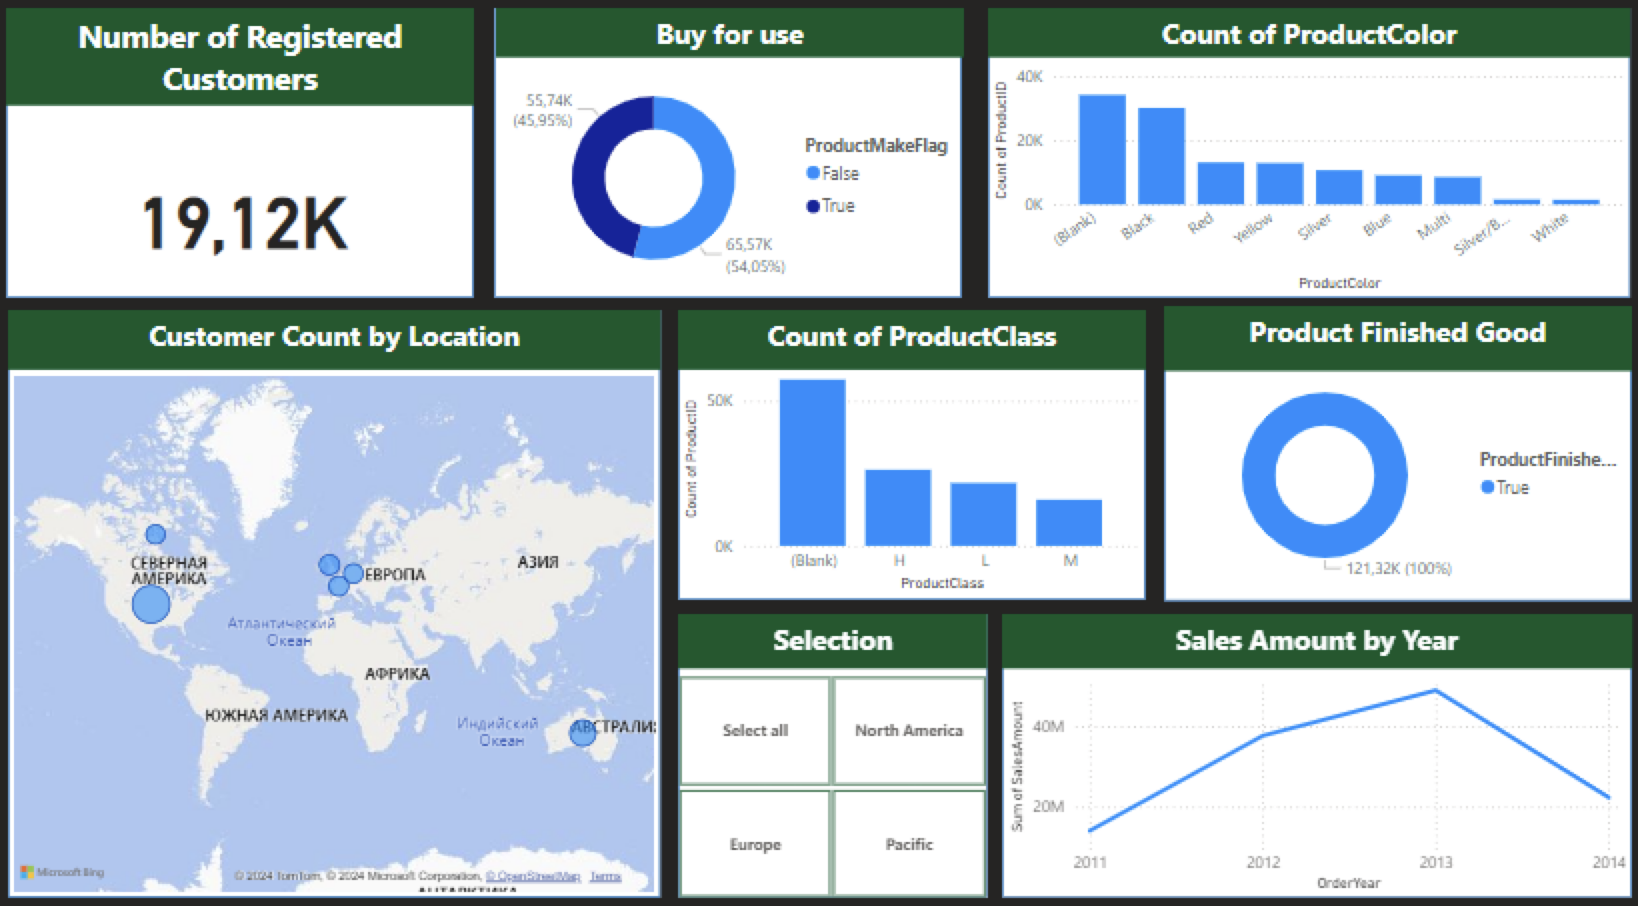

This screenshot's page, from the dashboard's own definition file:
{"tool":"powerbi","page":{"name":"Page 2","canvas":[1280,720],"ordinal":1},"visuals":[{"type":"shape","box":[13.5,15.4,359.6,223.1],"z":0},{"type":"shape","box":[388.5,15.4,359.6,223.1],"z":1000},{"type":"shape","box":[769.2,15.4,494.2,223.1],"z":2000},{"type":"textbox","box":[769.2,15.4,494.2,38.5],"z":3000},{"type":"columnChart","fields":{"Category":["Query1.ProductColor"],"Y":["CountNonNull(Query1.ProductID)"]},"box":[769.2,53.8,494.2,184.6],"z":4000},{"type":"card","fields":{"Values":["Count(Query1.CustomerID)"]},"box":[0,67.3,390.4,213.5],"z":5000},{"type":"textbox","box":[13.5,15.4,359.6,75],"z":6000},{"type":"textbox","box":[390.4,15.4,359.6,38.5],"z":7000},{"type":"donutChart","fields":{"Category":["Query1.ProductMakeFlag"],"Y":["CountNonNull(Query1.ProductID)"]},"box":[390.4,53.8,359.6,184.6],"z":8000},{"type":"shape","box":[903.8,244.2,359.6,226.9],"z":9000},{"type":"shape","box":[15.4,248.1,501.9,451.9],"z":10000},{"type":"shape","box":[530.8,248.1,359.6,223.1],"z":11000},{"type":"donutChart","fields":{"Category":["Query1.ProductFinishedGoodsFlag"],"Y":["CountNonNull(Query1.ProductID)"]},"box":[903.8,280.8,359.6,186.5],"z":12000},{"type":"columnChart","fields":{"Category":["Query1.ProductClass"],"Y":["CountNonNull(Query1.ProductID)"]},"box":[530.8,280.8,359.6,186.5],"z":13000},{"type":"textbox","box":[903.8,244.2,359.6,50],"z":14000},{"type":"textbox","box":[530.8,248.1,359.6,46.2],"z":15000},{"type":"textbox","box":[15.4,248.1,501.9,46.2],"z":16000},{"type":"map","fields":{"Category":["Query3.Country"],"Size":["Sum(Query3.CustomerCount)"]},"box":[15.4,294.2,501.9,405.8],"z":17000},{"type":"shape","box":[530.8,481.5,238.5,218.5],"z":18000},{"type":"slicer","fields":{"Values":["Query1.TerritoryGroup"]},"box":[506.2,523.1,284.6,183.1],"z":19000},{"type":"textbox","box":[530.8,481.5,238.5,41.5],"z":20000},{"type":"shape","box":[780,481.5,484.6,218.5],"z":21000},{"type":"textbox","box":[780,481.5,484.6,41.5],"z":22000},{"type":"lineChart","fields":{"Category":["Query2.OrderYear"],"Y":["Sum(Query2.SalesAmount)"]},"box":[781.5,523.1,483.1,176.9],"z":23000}]}

Visuals, with their boxes in screenshot pixels (x1, y1, x2, y2), scaled from the page's 1280x720 canvas onto the 1638x906 screenshot:
shape: locate(17, 19, 477, 300)
shape: locate(497, 19, 957, 300)
shape: locate(984, 19, 1617, 300)
textbox: locate(984, 19, 1617, 68)
columnChart - Query1.ProductColor x CountNonNull(Query1.ProductID): locate(984, 68, 1617, 300)
card - Count(Query1.CustomerID): locate(0, 85, 500, 353)
textbox: locate(17, 19, 477, 114)
textbox: locate(500, 19, 960, 68)
donutChart - Query1.ProductMakeFlag x CountNonNull(Query1.ProductID): locate(500, 68, 960, 300)
shape: locate(1157, 307, 1617, 593)
shape: locate(20, 312, 662, 881)
shape: locate(679, 312, 1139, 593)
donutChart - Query1.ProductFinishedGoodsFlag x CountNonNull(Query1.ProductID): locate(1157, 353, 1617, 588)
columnChart - Query1.ProductClass x CountNonNull(Query1.ProductID): locate(679, 353, 1139, 588)
textbox: locate(1157, 307, 1617, 370)
textbox: locate(679, 312, 1139, 370)
textbox: locate(20, 312, 662, 370)
map - Query3.Country x Sum(Query3.CustomerCount): locate(20, 370, 662, 881)
shape: locate(679, 606, 984, 881)
slicer - Query1.TerritoryGroup: locate(648, 658, 1012, 889)
textbox: locate(679, 606, 984, 658)
shape: locate(998, 606, 1618, 881)
textbox: locate(998, 606, 1618, 658)
lineChart - Query2.OrderYear x Sum(Query2.SalesAmount): locate(1000, 658, 1618, 881)
